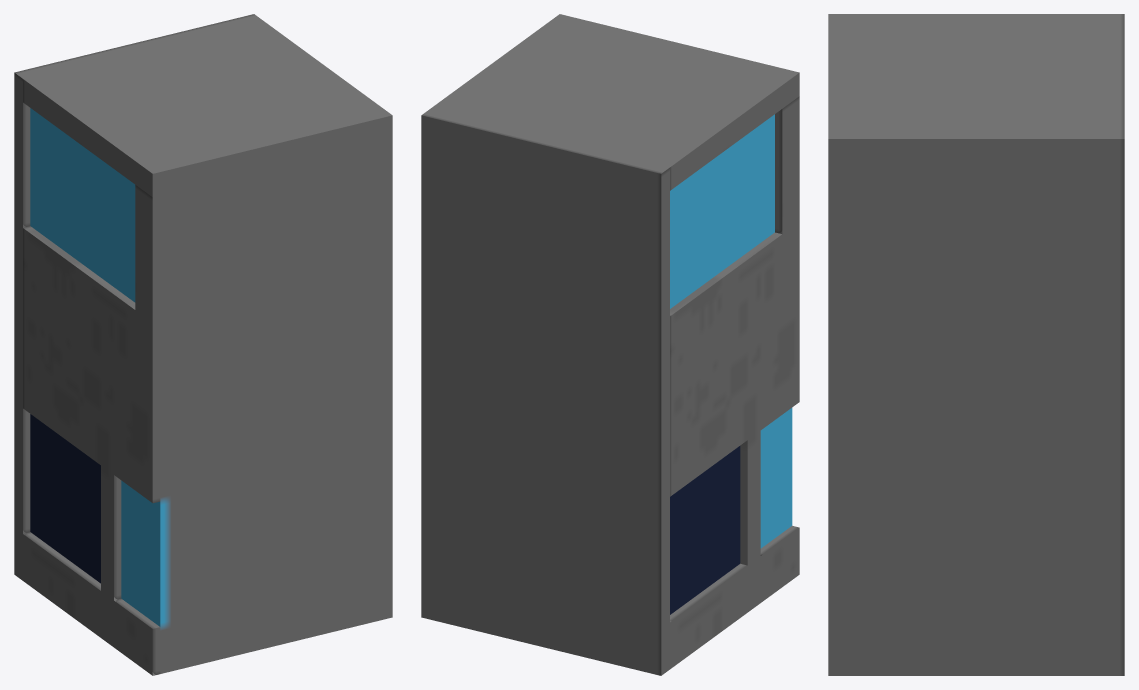
File: PARTER_BOK.dae
3 renders of one model, left to right at view 1: azimuth 30°, elevation 25°; view 2: azimuth 150°, elevation 25°; view 3: azimuth 270°, elevation 25°, orthographic. The views are drawn at different scales.
Parts seen in each view (by area): view 1: Content; view 2: Content; view 3: Content.
Part boxes in pixels (x1,y1,x2,y2): Content: (14, 14, 392, 675); Content: (421, 14, 799, 675); Content: (828, 14, 1124, 675).
Bounding box in the file's own units: 32 × 64 × 32.
1 material, 1 textured.
